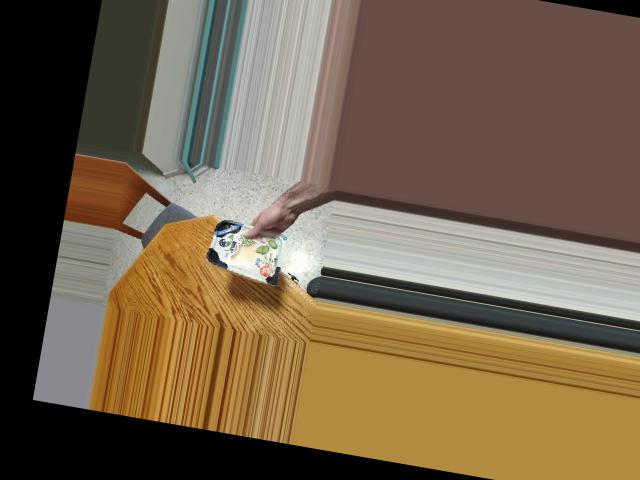cheese: (206, 208, 290, 287)
